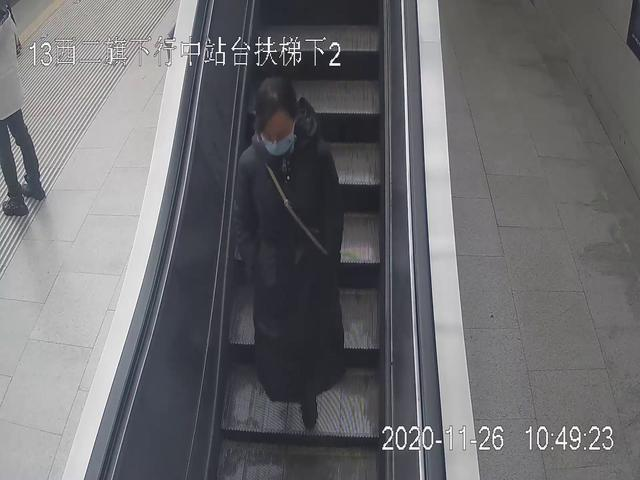person: (230, 75, 343, 429), (1, 4, 46, 218)
